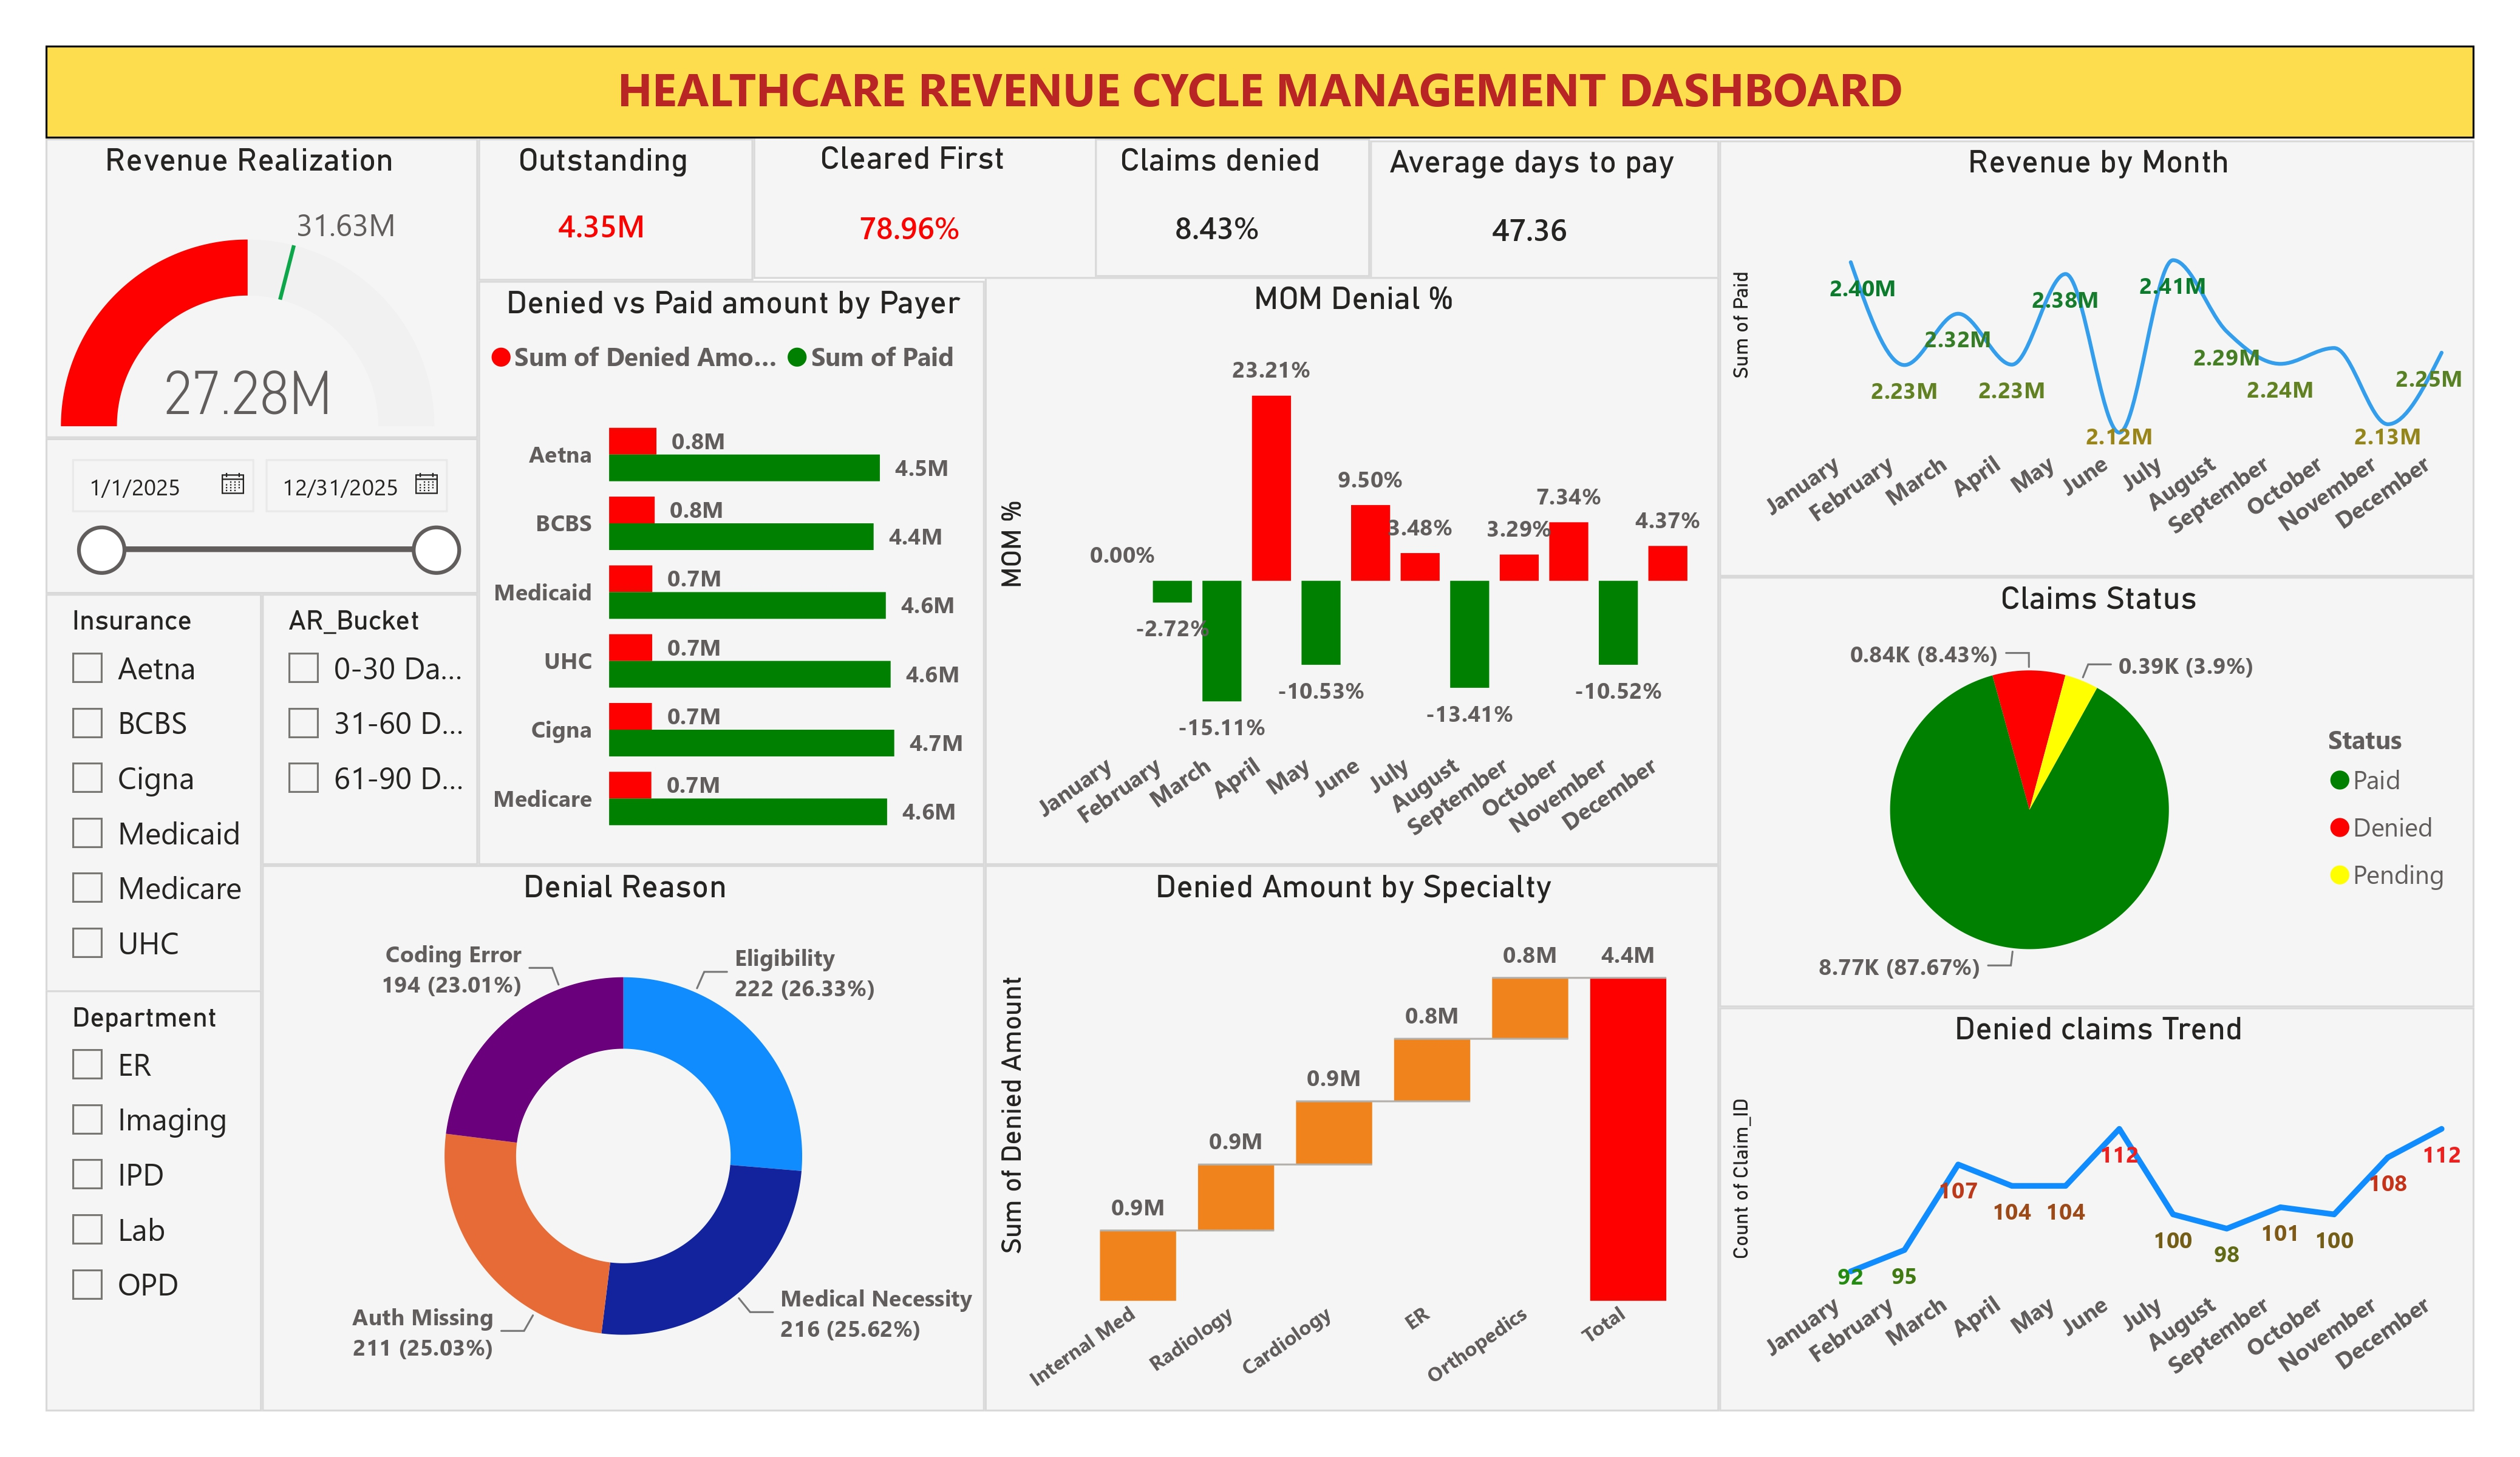

The page's visual inventory and layout, read from the dashboard file:
{"tool":"powerbi","page":{"name":"Page 1","canvas":[1280,720],"ordinal":0},"visuals":[{"type":"donutChart","title":"Denial Reason","fields":{"Category":["RCM.Denial_Reason"],"Y":["CountNonNull(RCM.Claim_ID)"]},"box":[113.7,431.6,381.5,288.4],"z":0},{"type":"slicer","fields":{"Values":["RCM.Insurance"]},"box":[0,289.3,113.7,209.6],"z":1000},{"type":"lineChart","title":"Revenue by Month","fields":{"Y":["Sum(RCM.Paid)"],"Category":["RCM.Payment_Date.Variation.Date Hierarchy.Month","RCM.Payment_Date.Variation.Date Hierarchy.Day"]},"box":[882,50,398,230],"z":2000},{"type":"waterfallChart","title":"Denied Amount by Specialty","fields":{"Category":["RCM.Specialty"],"Y":["Sum(RCM.Denied Amount)"]},"box":[495.2,431.6,386.9,288.4],"z":3000},{"type":"pieChart","title":"Claims Status","fields":{"Category":["RCM.Status"],"Y":["CountNonNull(RCM.Claim_ID)"]},"box":[882.1,280.3,398,227],"z":4000},{"type":"gauge","title":"Revenue Realization","fields":{"TargetValue":["Sum(RCM.Allowed)"],"Y":["Sum(RCM.Paid)"]},"box":[0,49,228,158],"z":5000},{"type":"cardVisual","title":"Outstanding","fields":{"Data":["Sum(RCM.Patient_Balance)"]},"box":[228,49,145,75],"z":6000},{"type":"cardVisual","title":"Claims denied","fields":{"Data":["RCM.% Denied claims"]},"box":[552.9,48.7,144.9,72.9],"z":7000},{"type":"cardVisual","title":"Cleared First","fields":{"Data":["RCM.Cleared First"]},"box":[372.7,48.2,180.9,74.5],"z":8000},{"type":"cardVisual","title":"Average days to pay","fields":{"Data":["Avg(RCM.Days_to_Pay)"]},"box":[697.8,49.7,183.8,72.9],"z":9000},{"type":"slicer","fields":{"Values":["RCM.Department"]},"box":[0,497.9,113.7,222.1],"z":10000},{"type":"clusteredBarChart","title":"Denied vs Paid amount by Payer","fields":{"Category":["RCM.Insurance"],"Y":["Sum(RCM.Denied Amount)","Sum(RCM.Paid)"]},"box":[228.4,123.6,266.9,308.1],"z":11000},{"type":"slicer","fields":{"Values":["RCM.Service_Date"]},"box":[0,207,228,82],"z":12000},{"type":"textbox","box":[0,0,1280,49.1],"z":13000},{"type":"columnChart","title":"MOM Denial % ","fields":{"Y":["RCM.MOM %"],"Category":["RCM.Service_Date.Variation.Date Hierarchy.Month"]},"box":[495.2,121.8,386.9,309.9],"z":14000},{"type":"lineChart","title":"Denied claims Trend","fields":{"Y":["CountNonNull(RCM.Claim_ID)"],"Category":["RCM.Payment_Date.Variation.Date Hierarchy.Month"]},"box":[882,507,398,213],"z":15000},{"type":"slicer","fields":{"Values":["RCM.AR_Bucket"]},"box":[113.7,289.3,114.6,142.4],"z":16000}]}

Visuals, with their boxes on the page's 1280x720 design canvas (x1, y1, x2, y2). These are canvas units, not pixel positions in the 2520x1457 screenshot, which may show the page scaled, cropped or inside an application window:
"Denial Reason" donutChart: {"left": 114, "top": 432, "right": 495, "bottom": 720}
slicer - RCM.Insurance: {"left": 0, "top": 289, "right": 114, "bottom": 499}
"Revenue by Month" lineChart: {"left": 882, "top": 50, "right": 1280, "bottom": 280}
"Denied Amount by Specialty" waterfallChart: {"left": 495, "top": 432, "right": 882, "bottom": 720}
"Claims Status" pieChart: {"left": 882, "top": 280, "right": 1280, "bottom": 507}
"Revenue Realization" gauge: {"left": 0, "top": 49, "right": 228, "bottom": 207}
"Outstanding" cardVisual: {"left": 228, "top": 49, "right": 373, "bottom": 124}
"Claims denied" cardVisual: {"left": 553, "top": 49, "right": 698, "bottom": 122}
"Cleared First" cardVisual: {"left": 373, "top": 48, "right": 554, "bottom": 123}
"Average days to pay" cardVisual: {"left": 698, "top": 50, "right": 882, "bottom": 123}
slicer - RCM.Department: {"left": 0, "top": 498, "right": 114, "bottom": 720}
"Denied vs Paid amount by Payer" clusteredBarChart: {"left": 228, "top": 124, "right": 495, "bottom": 432}
slicer - RCM.Service_Date: {"left": 0, "top": 207, "right": 228, "bottom": 289}
textbox: {"left": 0, "top": 0, "right": 1280, "bottom": 49}
"MOM Denial % " columnChart: {"left": 495, "top": 122, "right": 882, "bottom": 432}
"Denied claims Trend" lineChart: {"left": 882, "top": 507, "right": 1280, "bottom": 720}
slicer - RCM.AR_Bucket: {"left": 114, "top": 289, "right": 228, "bottom": 432}
